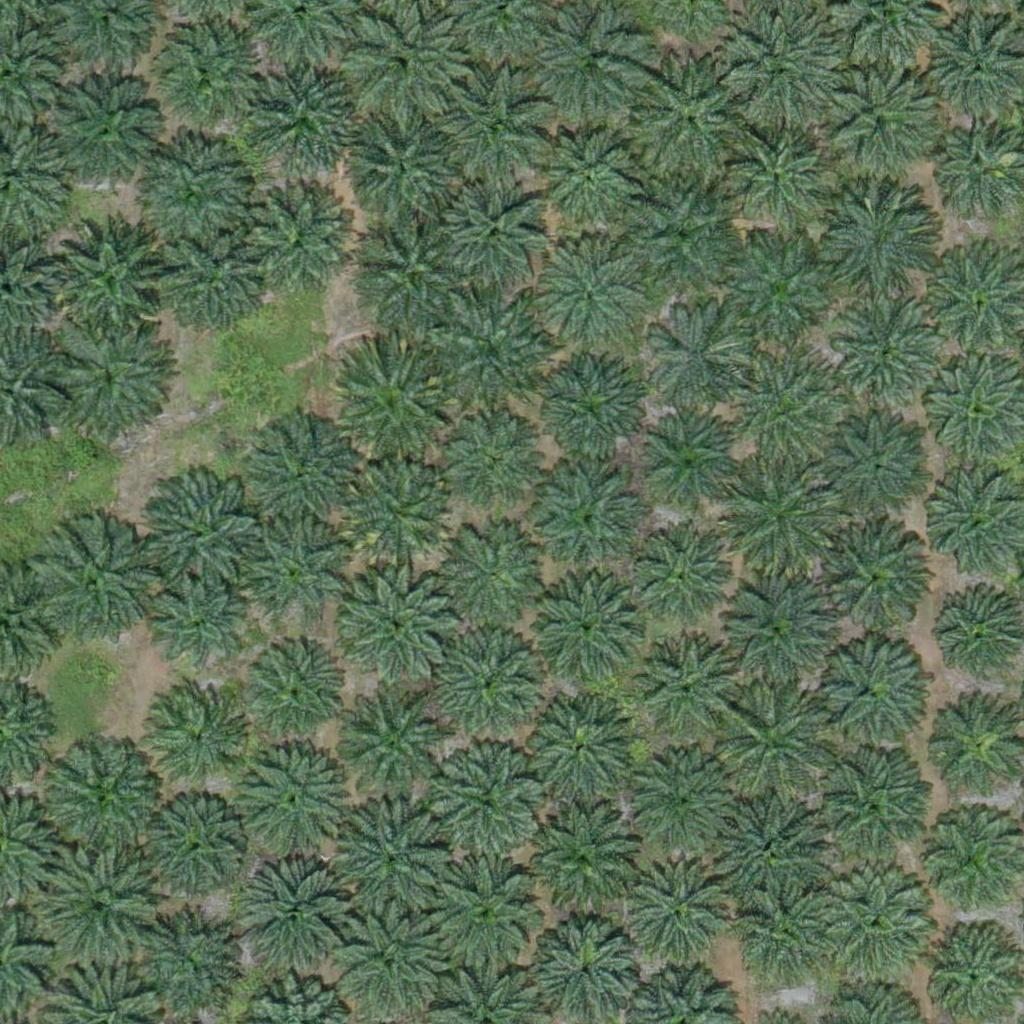Kelapa_Sawit: (45, 213, 170, 339), (49, 317, 174, 443), (338, 2, 463, 128), (634, 58, 759, 184), (808, 866, 933, 992), (136, 471, 261, 597), (30, 524, 155, 650), (37, 842, 162, 968), (39, 732, 164, 858), (137, 13, 262, 138), (126, 131, 251, 256), (329, 346, 454, 471), (816, 411, 929, 525), (46, 76, 159, 189), (152, 221, 265, 334), (439, 178, 552, 291), (436, 74, 549, 187), (535, 358, 648, 471), (726, 10, 839, 123), (820, 187, 933, 300), (823, 67, 936, 180), (720, 680, 833, 793), (712, 793, 825, 906), (621, 858, 734, 971), (525, 569, 638, 682), (343, 565, 456, 678), (340, 692, 453, 805), (334, 805, 447, 918), (233, 739, 346, 852), (427, 856, 540, 969), (537, 8, 649, 122), (625, 187, 737, 301), (720, 238, 832, 352), (834, 297, 946, 411), (816, 519, 928, 633), (811, 632, 923, 746), (725, 458, 837, 572), (234, 861, 346, 975), (243, 184, 355, 297), (250, 59, 362, 172), (347, 116, 459, 229), (354, 214, 466, 327), (436, 301, 548, 414), (724, 358, 836, 471), (816, 744, 928, 857), (718, 577, 830, 690), (521, 690, 633, 803), (528, 808, 640, 921), (434, 517, 546, 630), (435, 627, 547, 740), (433, 743, 545, 856), (543, 243, 643, 344), (637, 414, 737, 515), (630, 525, 730, 626), (634, 632, 734, 733), (632, 749, 732, 850), (538, 467, 638, 568), (441, 410, 541, 511), (347, 460, 447, 561), (257, 422, 357, 523), (245, 520, 345, 621), (241, 641, 341, 742), (147, 573, 247, 674), (536, 126, 636, 226), (643, 311, 743, 411), (729, 122, 829, 222), (145, 688, 245, 788), (143, 797, 243, 897), (128, 920, 228, 1020), (741, 897, 816, 972)
